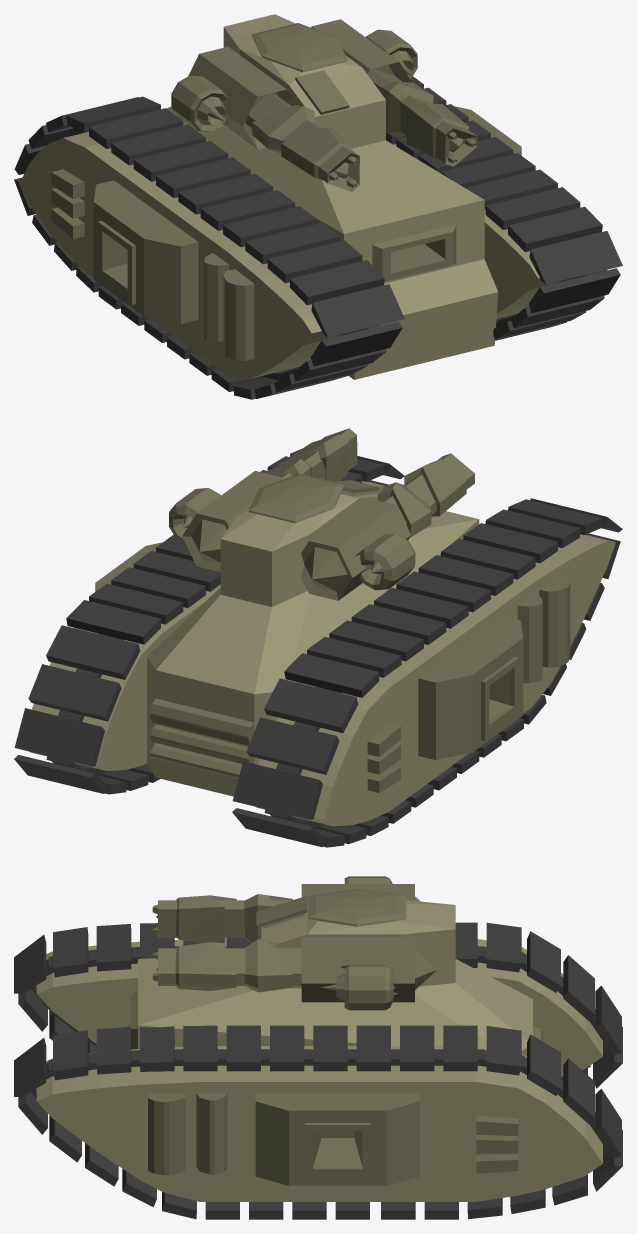
File: MachineGunTank.fbx
3 views of the same model, one above another, from view 1: azimuth 30°, elevation 25°; view 2: azimuth 150°, elevation 25°; view 3: azimuth 270°, elevation 25° (orthographic). The views are drawn at different scales.
Visible parts, largest first — view 1: Cube; view 2: Cube; view 3: Cube.
Part boxes in pixels (left/top/right/bottom): Cube: left=14, top=14, right=622, bottom=399; Cube: left=14, top=428, right=622, bottom=847; Cube: left=14, top=876, right=622, bottom=1219.
Bounding box in the file's own units: 1004 × 637 × 1417.
